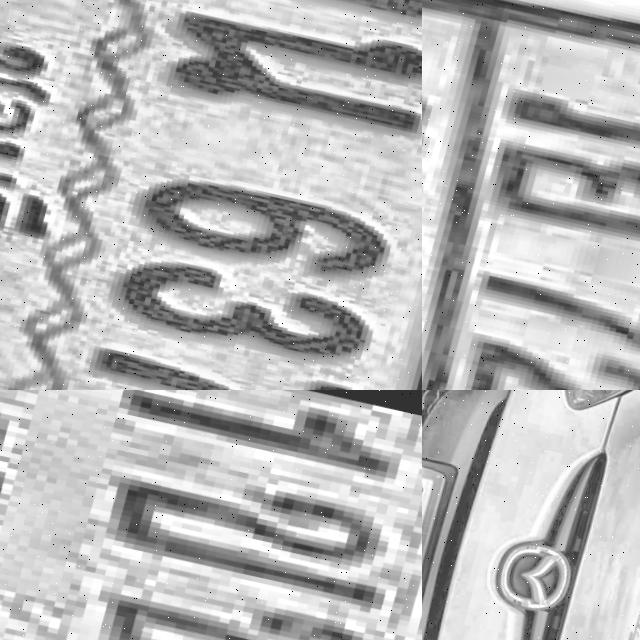license-plate: (0, 0, 422, 390), (0, 390, 422, 640), (422, 0, 640, 390), (422, 438, 459, 640)
